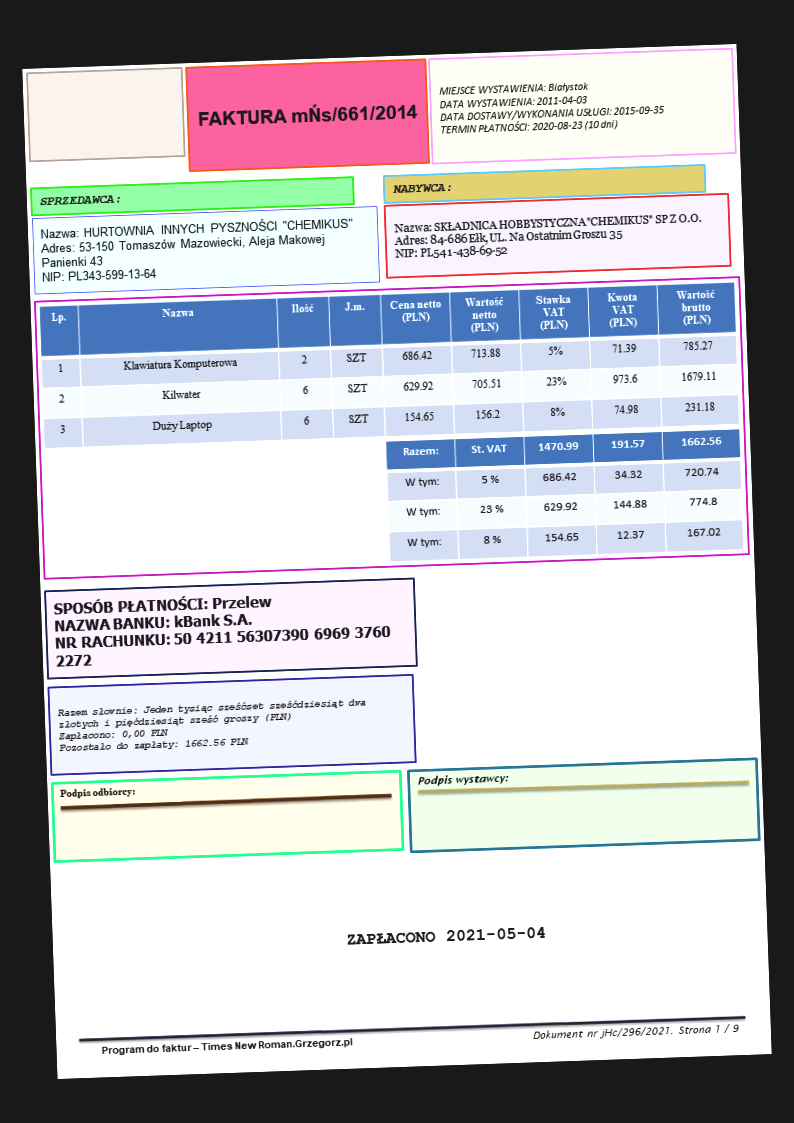Table: (39, 281, 740, 450), (384, 427, 745, 563)
TextBox: (51, 587, 392, 670), (38, 214, 357, 285), (55, 694, 370, 755), (391, 209, 705, 262), (437, 76, 666, 136), (197, 99, 419, 129), (100, 1035, 355, 1059), (345, 923, 548, 948), (530, 1021, 740, 1043), (415, 771, 510, 788), (38, 192, 122, 208), (58, 784, 135, 801), (390, 181, 453, 196)
